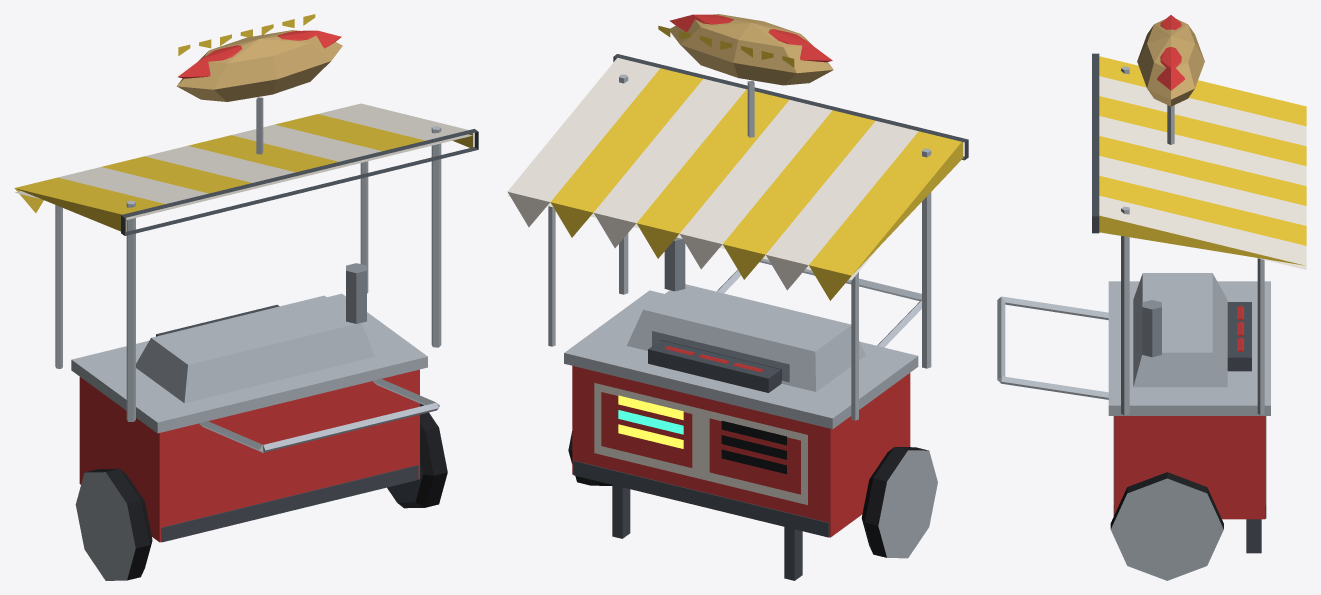
File: hotdog_stand.glb
3 renders of one model, left to right at view 1: azimuth 30°, elevation 25°; view 2: azimuth 150°, elevation 25°; view 3: azimuth 270°, elevation 25°, orthographic. The views are drawn at different scales.
Visible parts, largest first — view 1: Body; view 2: Body; view 3: Body.
Boxes of the visible parts, left/top/right/bottom form: Body: left=14, top=14, right=478, bottom=580; Body: left=507, top=14, right=968, bottom=580; Body: left=997, top=15, right=1306, bottom=580.
Bounding box in the file's own units: 2.04 × 2.78 × 1.64.
